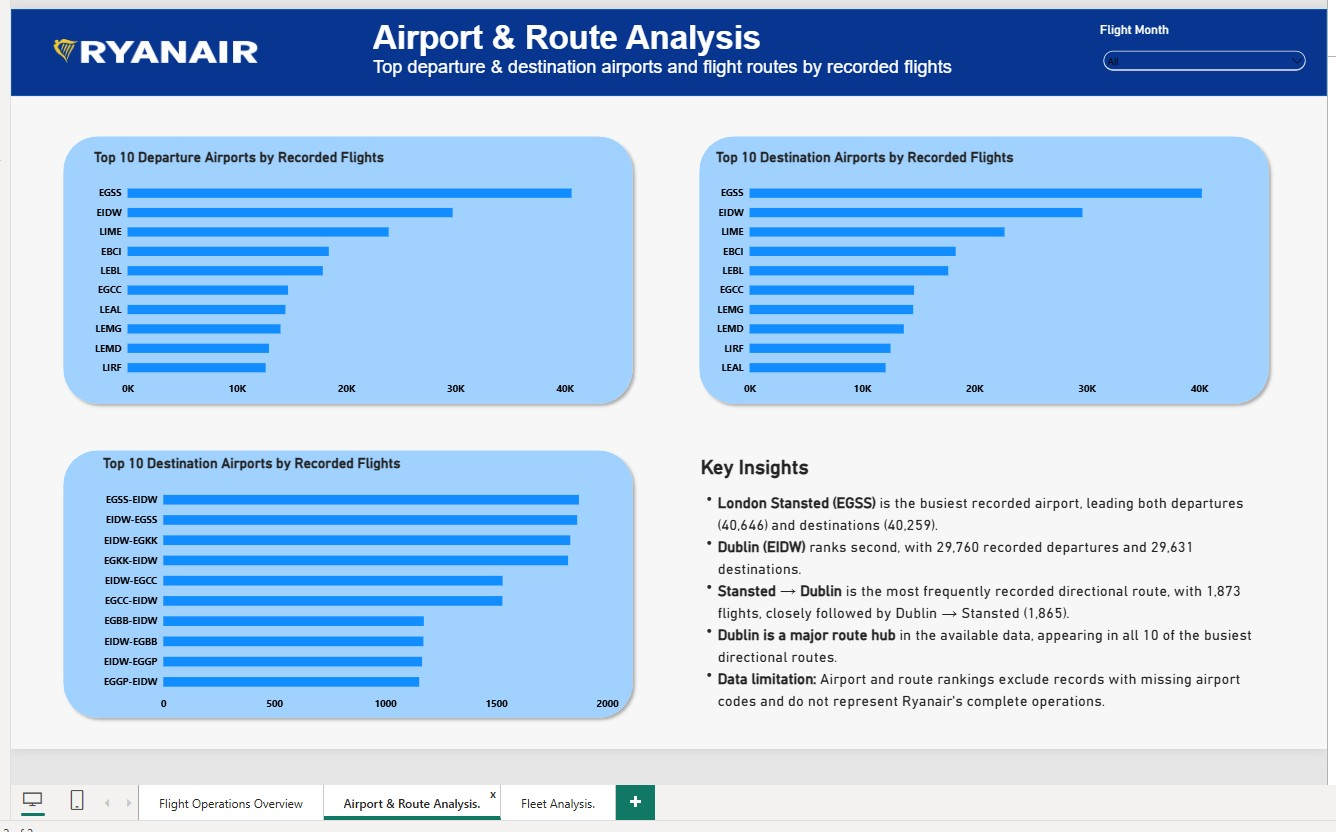

The page's visual inventory and layout, read from the dashboard file:
{"tool":"powerbi","page":{"name":"Airport & Route Analysis.","canvas":[1920,1080],"ordinal":1},"visuals":[{"type":"shape","box":[67.1,634.7,849.1,408.5],"z":0},{"type":"shape","box":[995,176.5,849.1,408.5],"z":1000},{"type":"shape","box":[67.1,176.5,849,408.5],"z":2000},{"type":"shape","box":[0,0,1920,127.1],"z":3000},{"type":"clusteredBarChart","title":"Top 10 Departure Airports by Recorded Flights","fields":{"Category":["ryanair_project ryanair_flights.adep"],"Y":["ryanair_project ryanair_flights.Total Flight Records"]},"box":[105,189.7,811.2,395.4],"z":4000},{"type":"clusteredBarChart","title":"Top 10 Destination Airports by Recorded Flights","fields":{"Category":["ryanair_project ryanair_flights.ades"],"Y":["ryanair_project ryanair_flights.Total Flight Records"]},"box":[1012.5,189.7,831.6,395.4],"z":5000},{"type":"clusteredBarChart","title":"Top 10 Destination Airports by Recorded Flights","fields":{"Category":["ryanair_project ryanair_flights.route"],"Y":["ryanair_project ryanair_flights.Total Flight Records"]},"box":[117.5,635.5,784.6,408.1],"z":6000},{"type":"slicer","title":"Flight Month","fields":{"Values":["ryanair_project ryanair_flights.Month Start"]},"box":[1588.8,19,305.3,91.4],"z":7000},{"type":"image","box":[0,13.9,420.8,95.9],"z":8000},{"type":"textbox","box":[995,650.7,849.1,392.5],"z":8001},{"type":"textbox","box":[528.1,14.6,935.2,96.3],"z":8002}]}

Visuals, with their boxes on the page's 1920x1080 design canvas (x1, y1, x2, y2). These are canvas units, not pixel positions in the 1336x832 screenshot, which may show the page scaled, cropped or inside an application window:
shape: <region>67, 635, 916, 1043</region>
shape: <region>995, 176, 1844, 585</region>
shape: <region>67, 176, 916, 585</region>
shape: <region>0, 0, 1920, 127</region>
"Top 10 Departure Airports by Recorded Flights" clusteredBarChart: <region>105, 190, 916, 585</region>
"Top 10 Destination Airports by Recorded Flights" clusteredBarChart: <region>1012, 190, 1844, 585</region>
"Top 10 Destination Airports by Recorded Flights" clusteredBarChart: <region>118, 636, 902, 1044</region>
"Flight Month" slicer: <region>1589, 19, 1894, 110</region>
image: <region>0, 14, 421, 110</region>
textbox: <region>995, 651, 1844, 1043</region>
textbox: <region>528, 15, 1463, 111</region>
